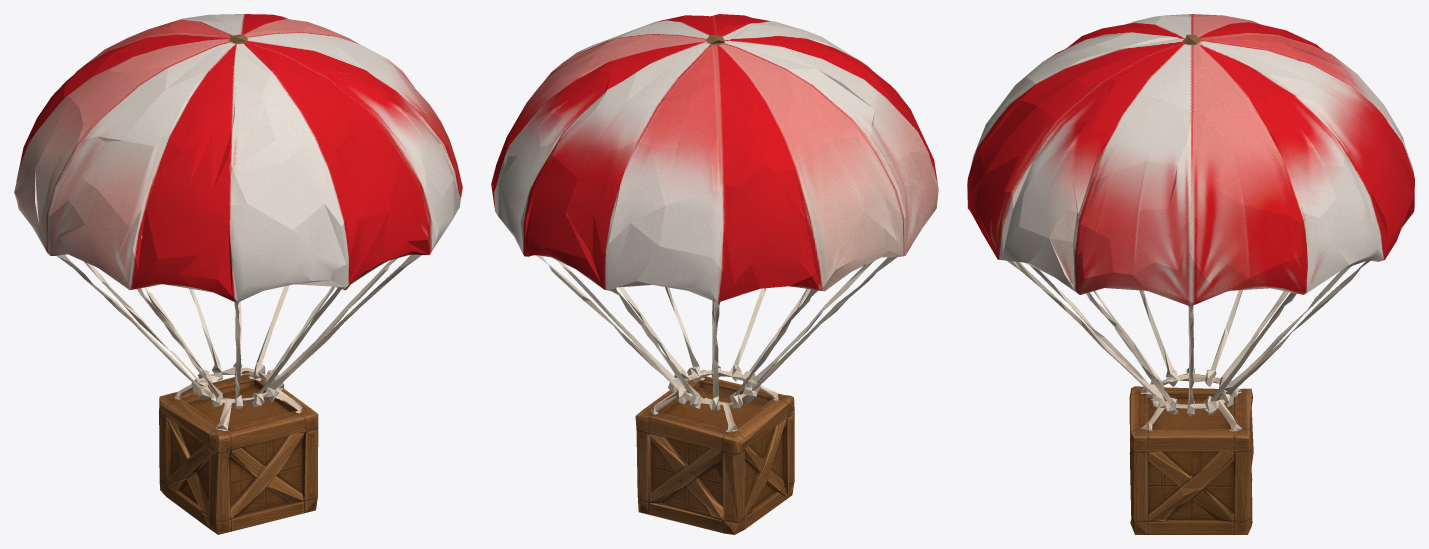
Rendered from parachute.glb.
3 views of the same model, side by side, from view 1: azimuth 30°, elevation 25°; view 2: azimuth 150°, elevation 25°; view 3: azimuth 270°, elevation 25° (orthographic).
Parts seen in each view (by area): view 1: output_unwrapped; view 2: output_unwrapped; view 3: output_unwrapped.
Boxes of the visible parts, x1,y1,x2,y2 form: output_unwrapped: (14,14,462,534); output_unwrapped: (491,14,938,534); output_unwrapped: (967,14,1414,534).
Bounding box in the file's own units: 1.62 × 1.9 × 1.62.
Materials: 1 (1 with a texture image).
